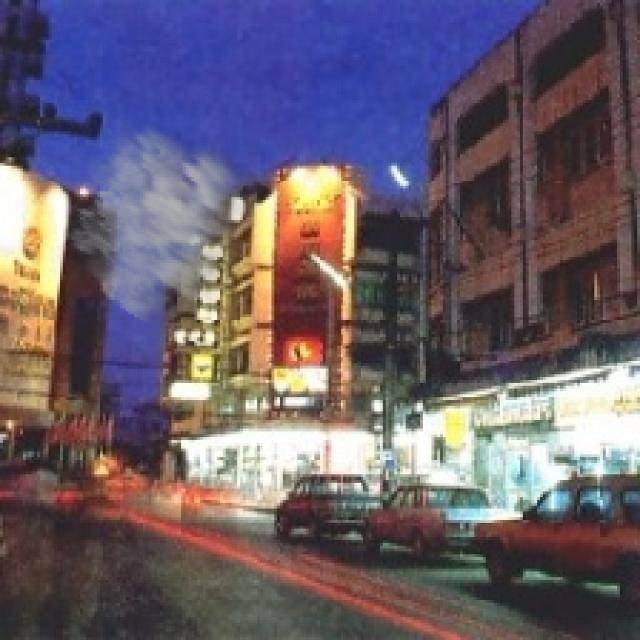Smoke: (62, 117, 272, 332)
